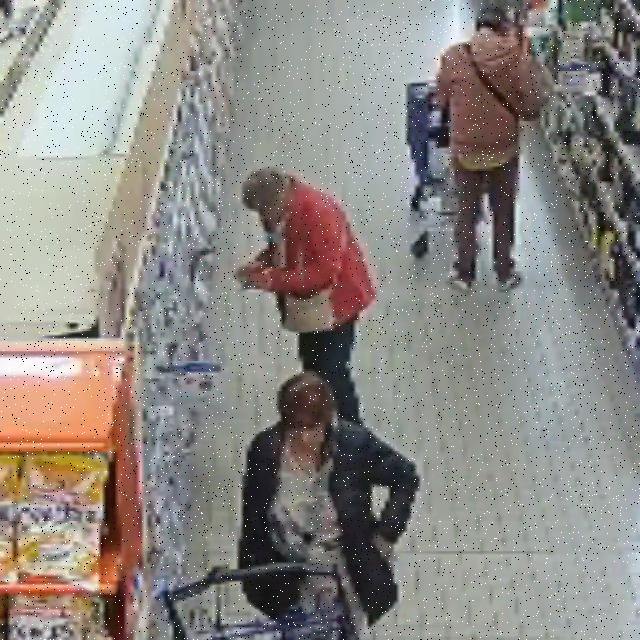bags: (237, 480, 322, 624), (464, 43, 552, 120), (284, 283, 334, 333)
hands: (244, 269, 271, 291), (373, 535, 394, 562), (235, 261, 264, 278)
person: (239, 372, 419, 638), (237, 168, 375, 422), (438, 6, 550, 291)
